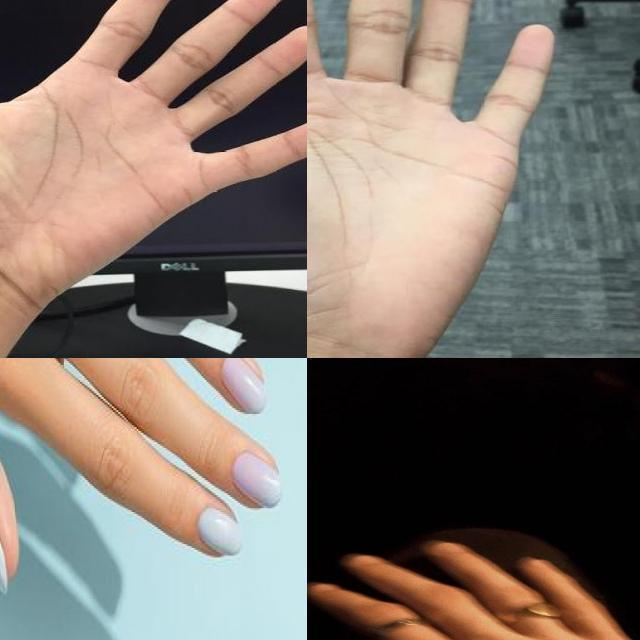no-gloves: (0, 0, 307, 294), (307, 0, 556, 358), (0, 358, 283, 640), (307, 539, 640, 640)
